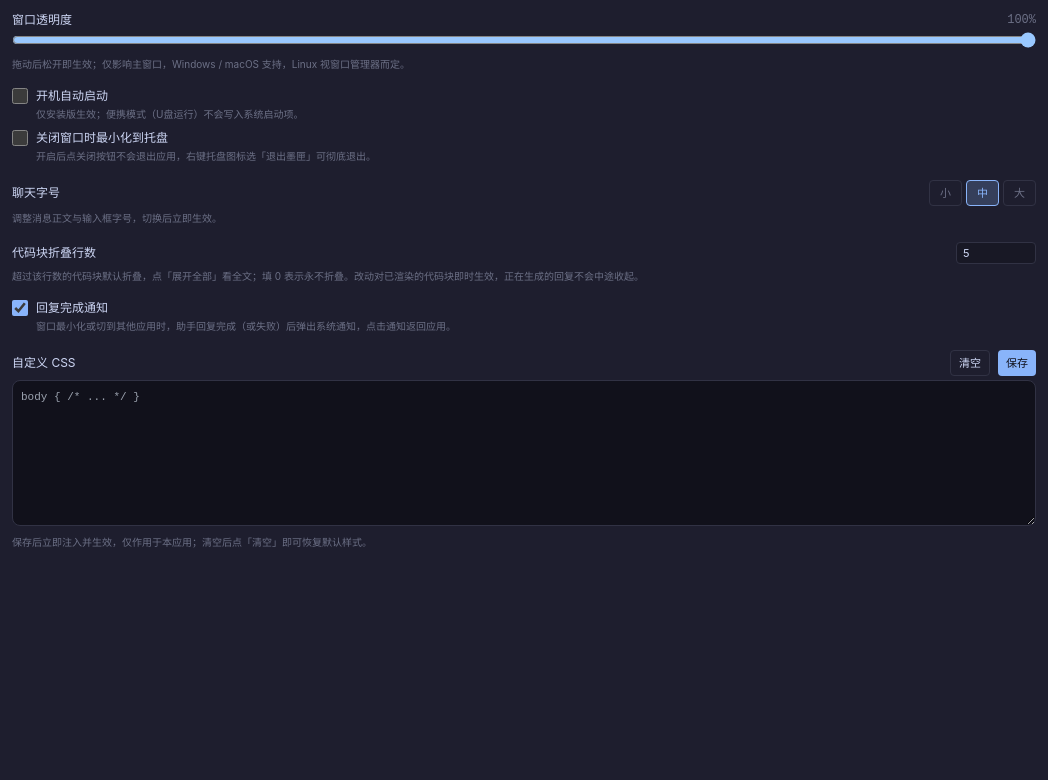
Scenario: 外观面板 — 代码块折叠阈值 › 输入 999 失焦：提交前夹到 200，全局阈值同步生效
Expected: the text "代码块折叠行数" is shown, [12,245,96,261]
Replace the text in the number field with id "ui-code-collapse-lines" with "999" at (996,253), box [956,242,1036,264]
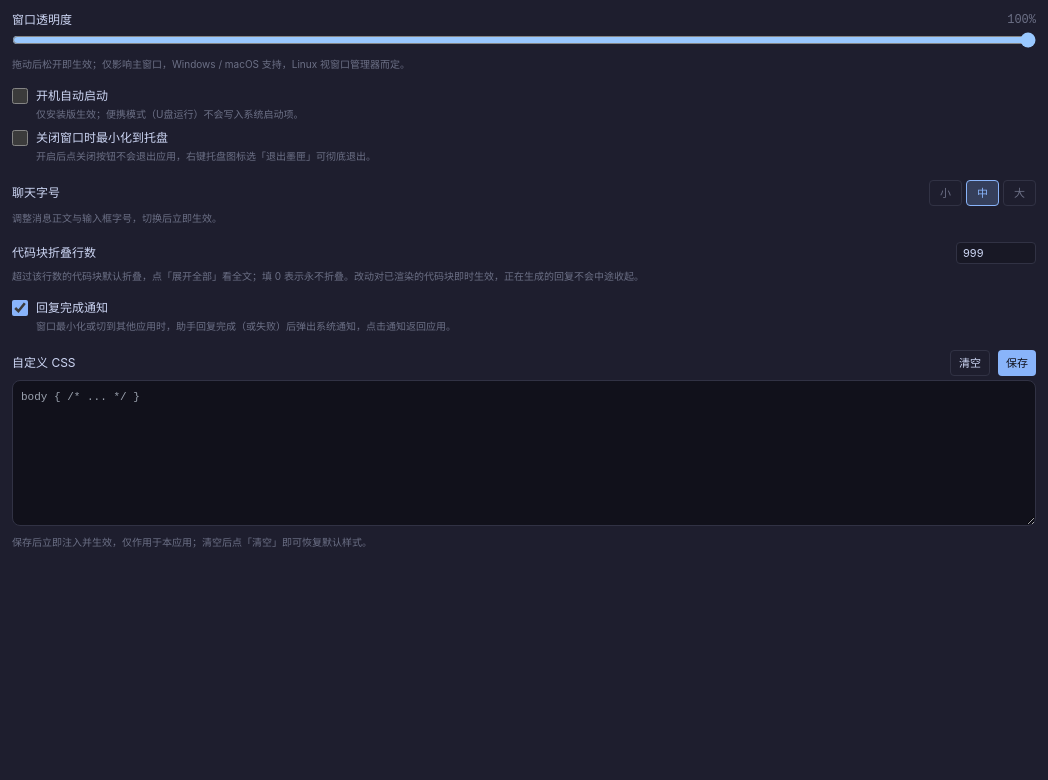
Leave the number field with id "ui-code-collapse-lines", box [956,242,1036,264]
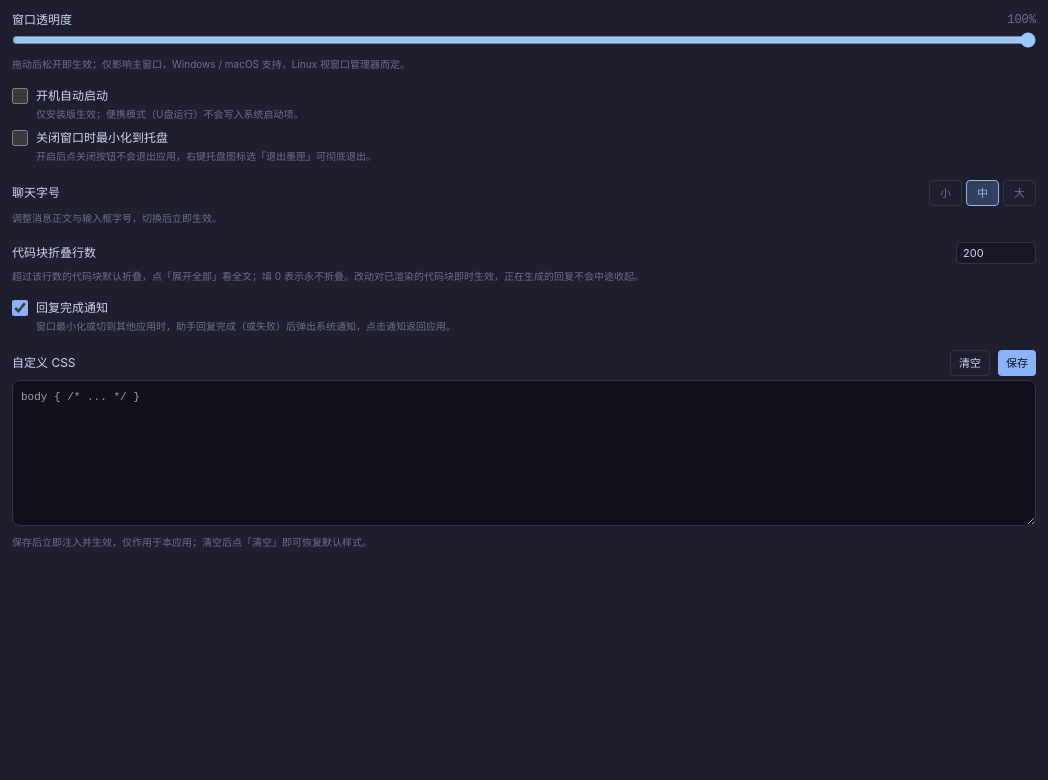
Expected: the number field with id "ui-code-collapse-lines" holds "200", [956,242,1036,264]
